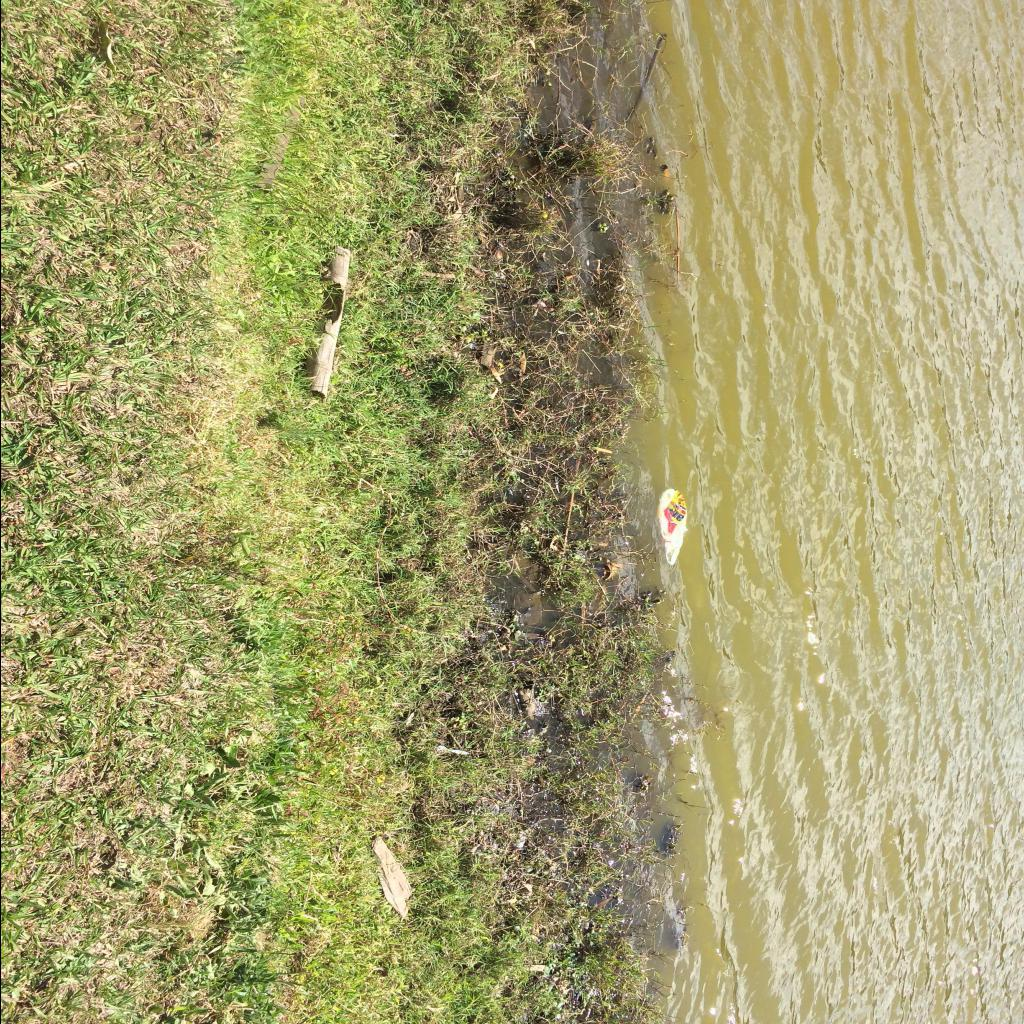Single-use carrier bag: (652, 489, 686, 565)
